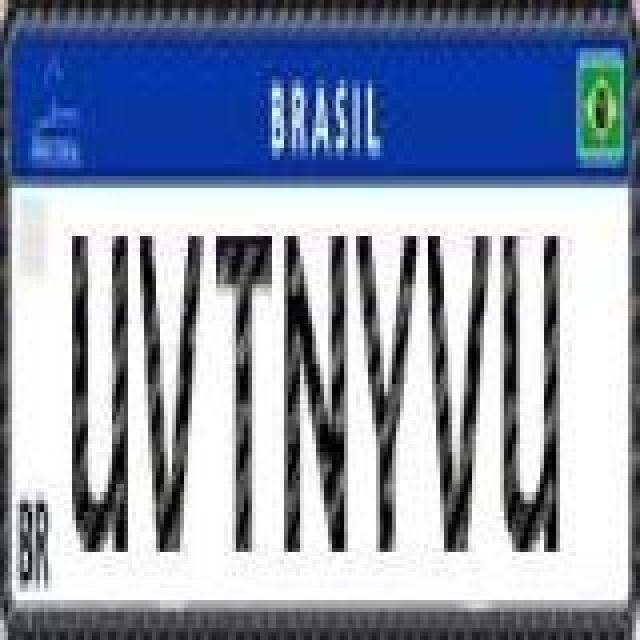N: (282, 230, 350, 554)
T: (214, 230, 274, 554)
U: (496, 230, 560, 554), (70, 230, 130, 554)
V: (138, 230, 206, 554), (424, 230, 488, 554)
Y: (356, 230, 420, 554)
